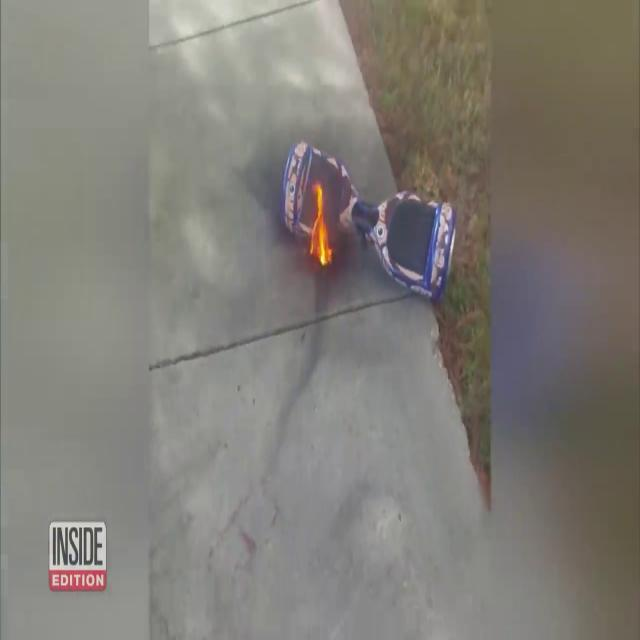Fire: (307, 176, 333, 270)
